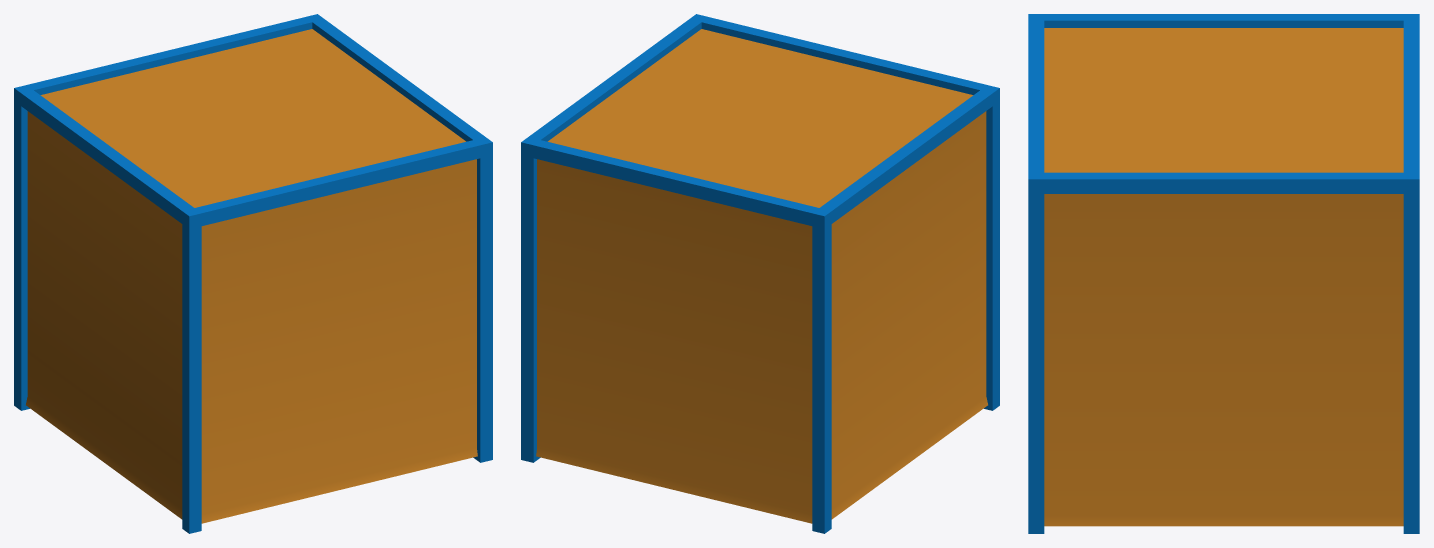
Rendered from CubeDyna_2Part_Top.FBX.
The picture shows the model from 3 angles, left to right: view 1: azimuth 30°, elevation 25°; view 2: azimuth 150°, elevation 25°; view 3: azimuth 270°, elevation 25°; orthographic projection. The views are drawn at different scales.
Parts seen in each view (by area): view 1: CubeDyna_2Part_Top; view 2: CubeDyna_2Part_Top; view 3: CubeDyna_2Part_Top.
Part boxes in pixels (left/top/right/bottom): CubeDyna_2Part_Top: left=14, top=14, right=492, bottom=533; CubeDyna_2Part_Top: left=521, top=14, right=999, bottom=533; CubeDyna_2Part_Top: left=1028, top=14, right=1419, bottom=533.
Size of the model in its own units: 48 by 48 by 48.
